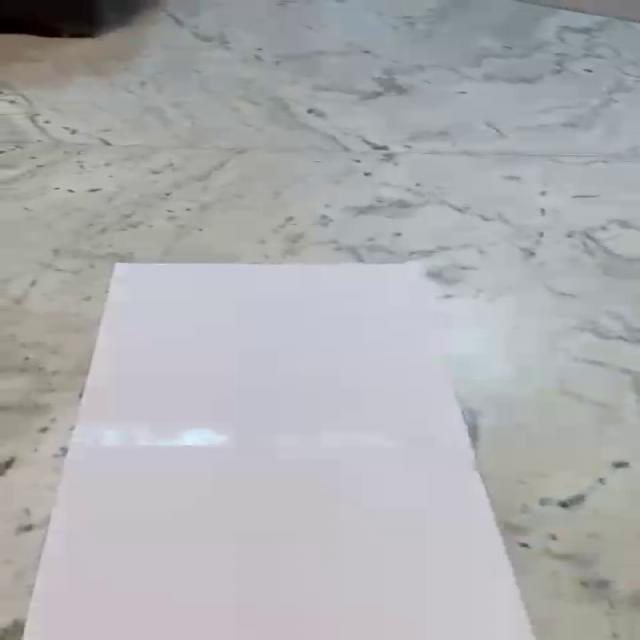road: (21, 263, 537, 640)
